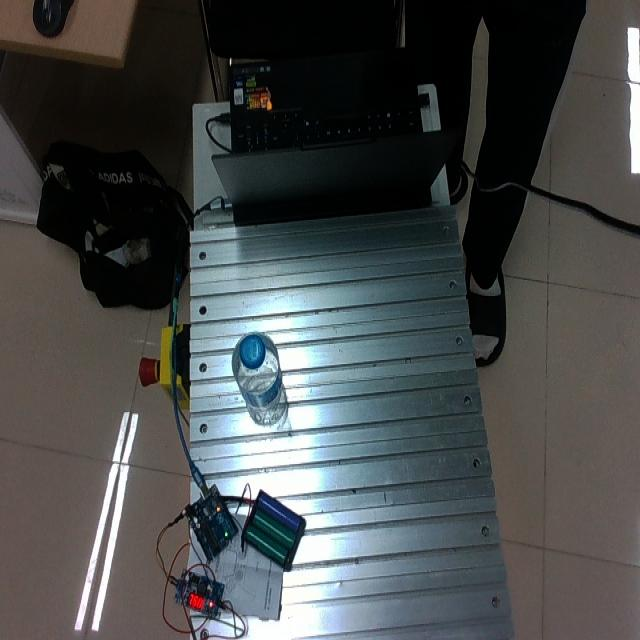lavie: (231, 334, 290, 431)
